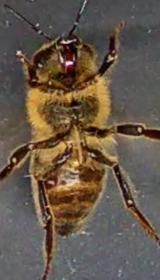varroa_mite: (32, 165, 61, 194)
